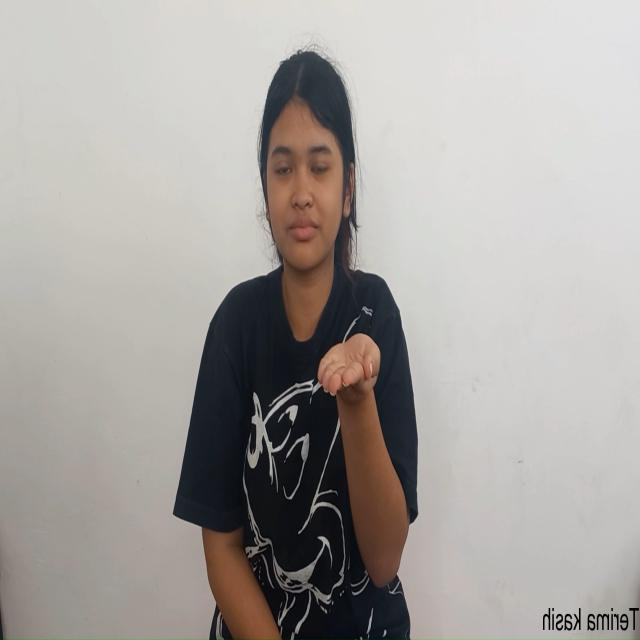Terima kasih -BISINDO-: (291, 327, 435, 574)
